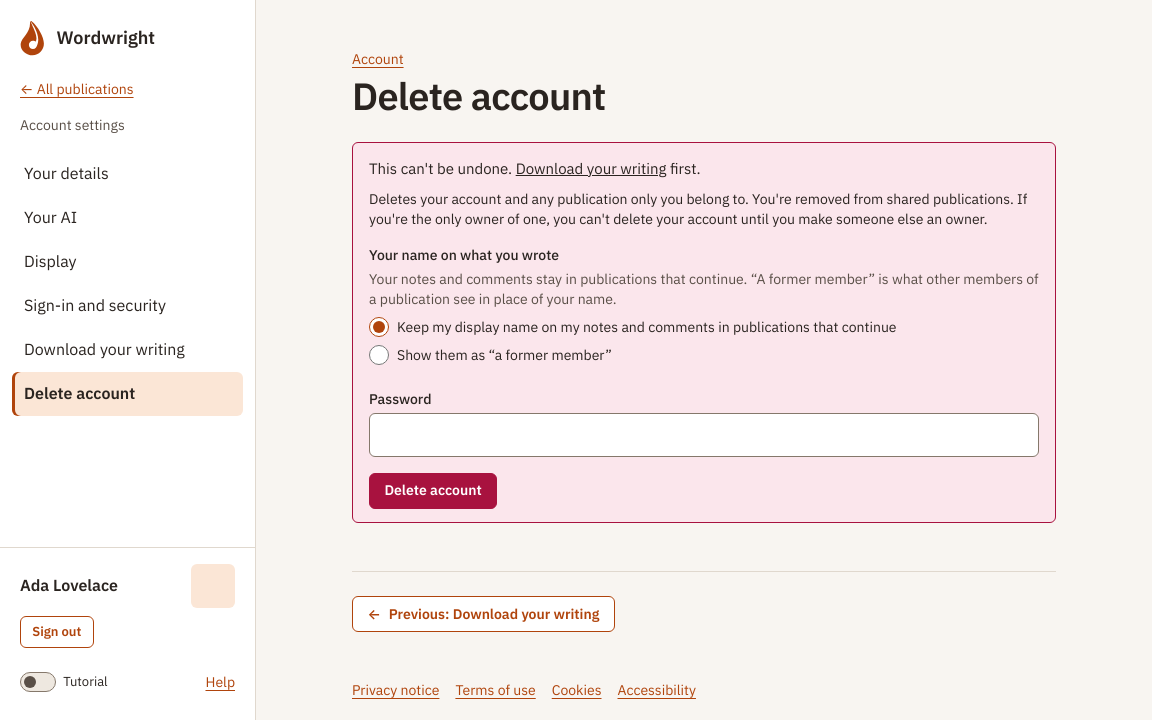
Test: AccountView › names what the deletion removes and what happens to their name
Type "my password 123" into the password field labelled "Password" at [704, 435], box [369,413,1039,457]
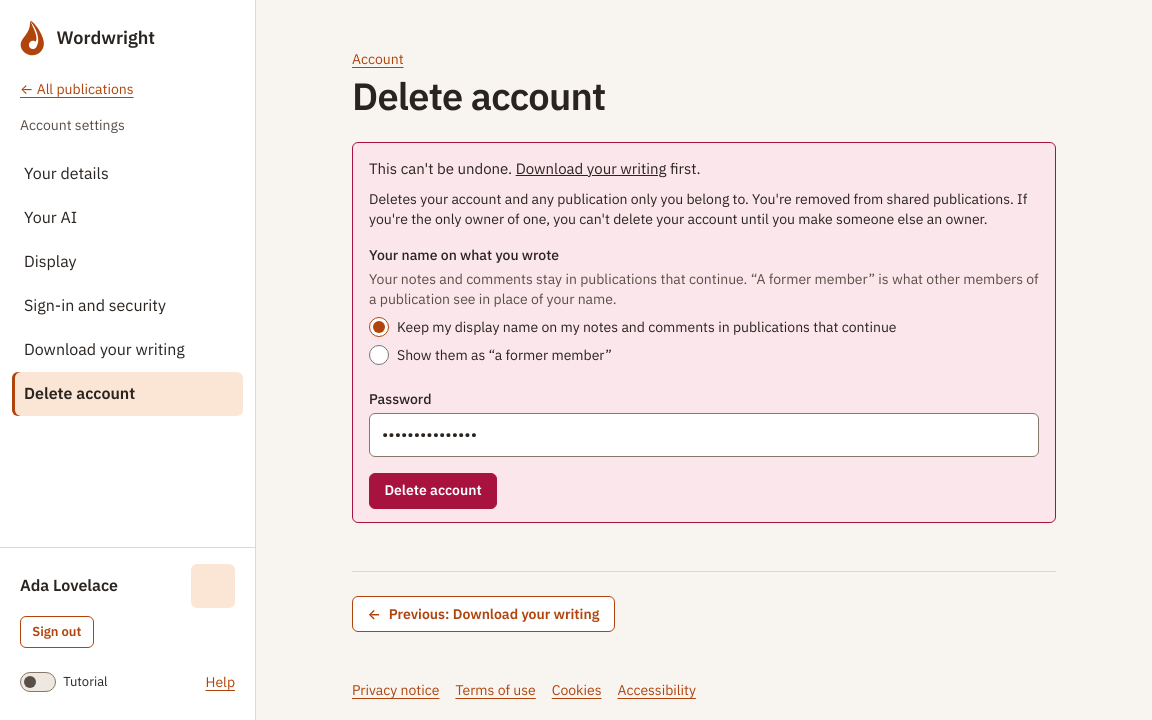
Click the button "Delete account" at [433, 491], box [369,473,497,509]
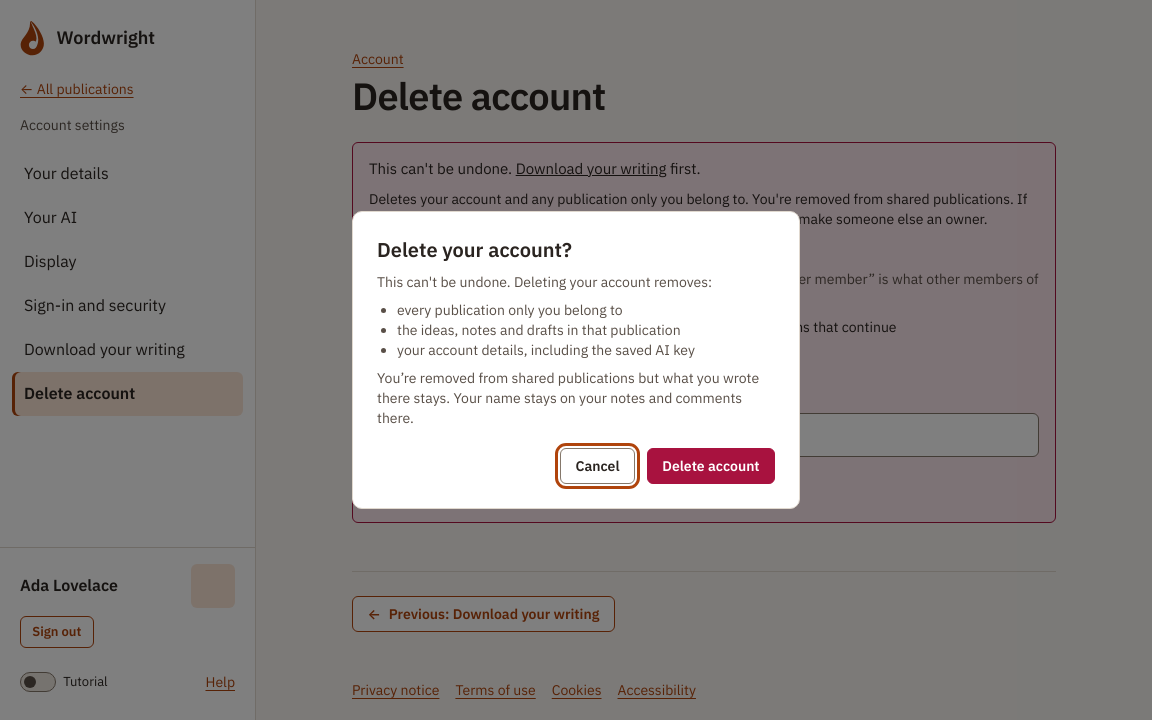
Now the list item "every publication only you belong to" is shown, box [397,301,623,319]
Now the list item "the ideas, notes and drafts in that publication" is shown, box [397,321,681,339]
Now the list item "your account details, including the saved AI key" is shown, box [397,341,695,359]
Click the button "Cancel" at [597, 466], box [560,448,635,484]
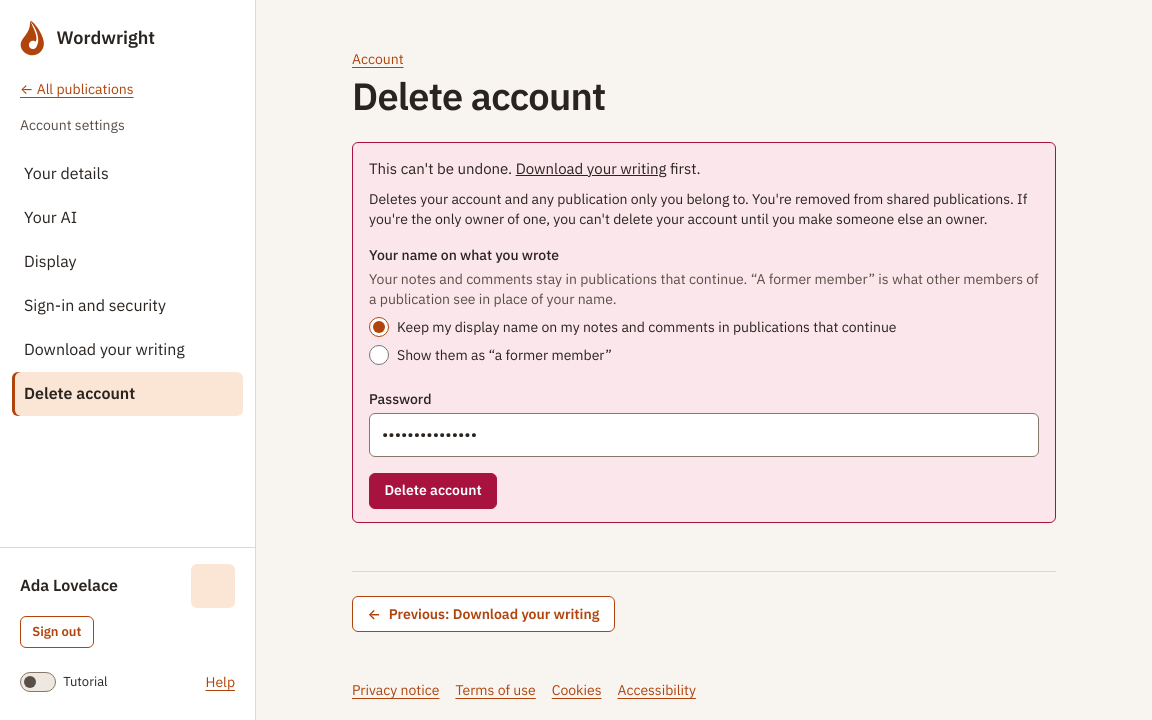
Click the radio button labelled "Show them as “a former member”" at [379, 355], box [369,345,389,365]
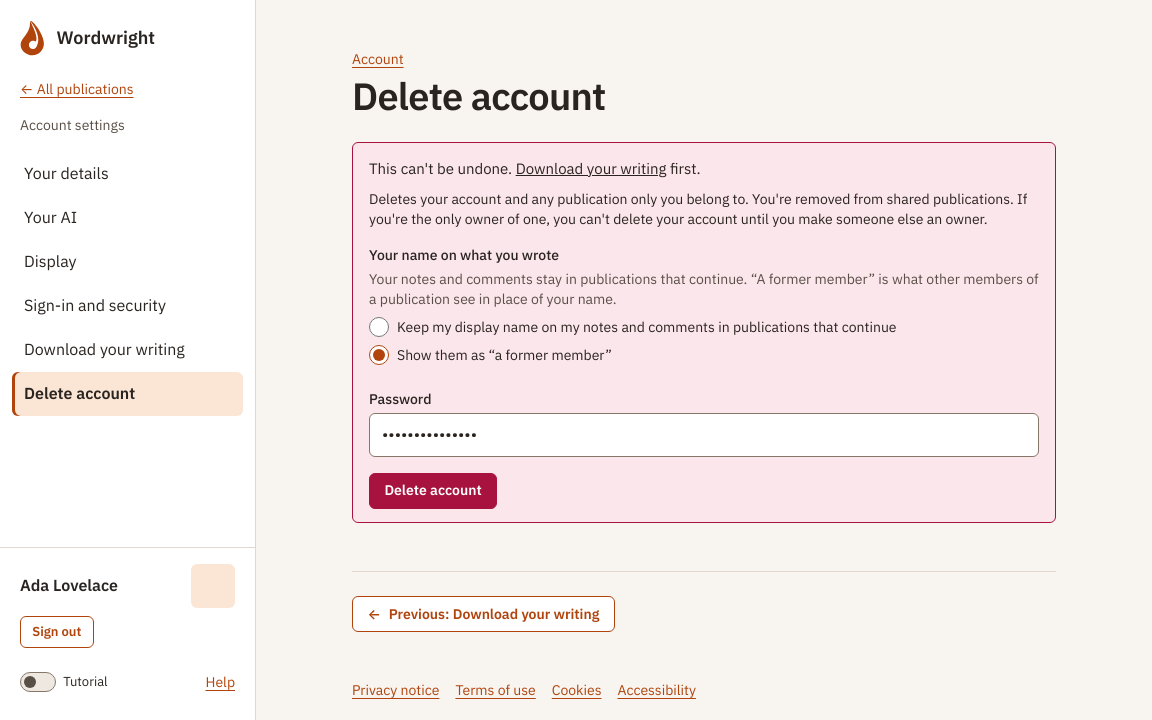
Click the button "Delete account" at [433, 491], box [369,473,497,509]
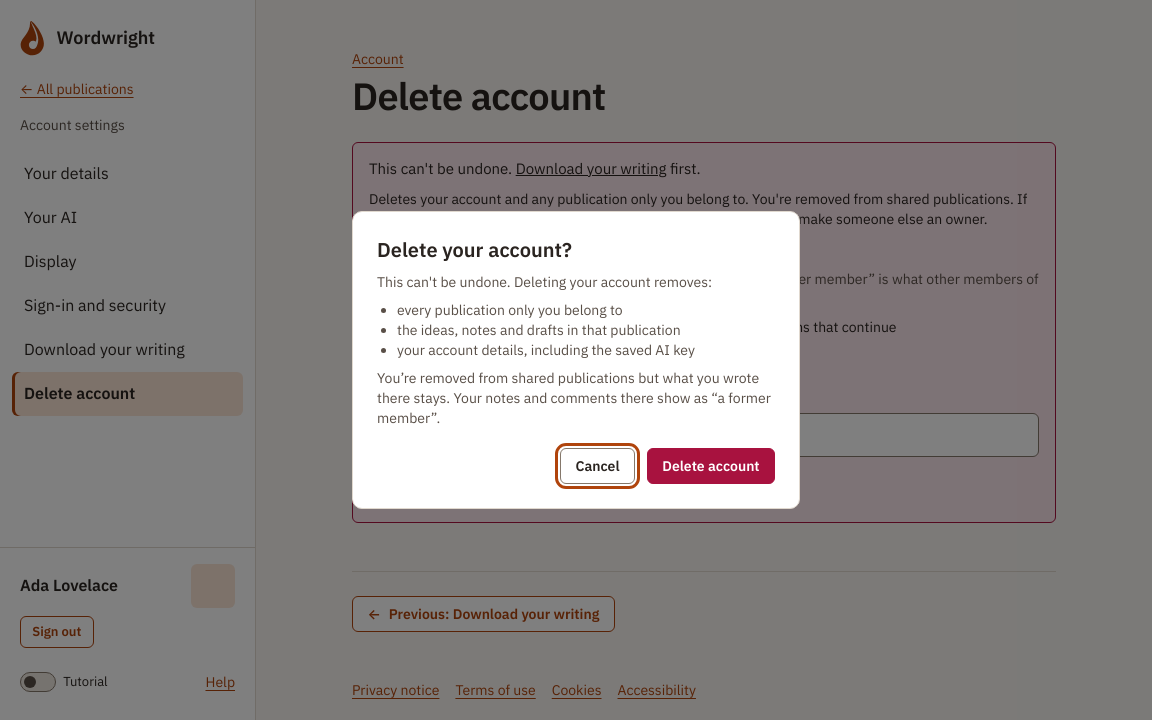
Now the text "show as “a former member”" is shown, box [377,369,771,427]
